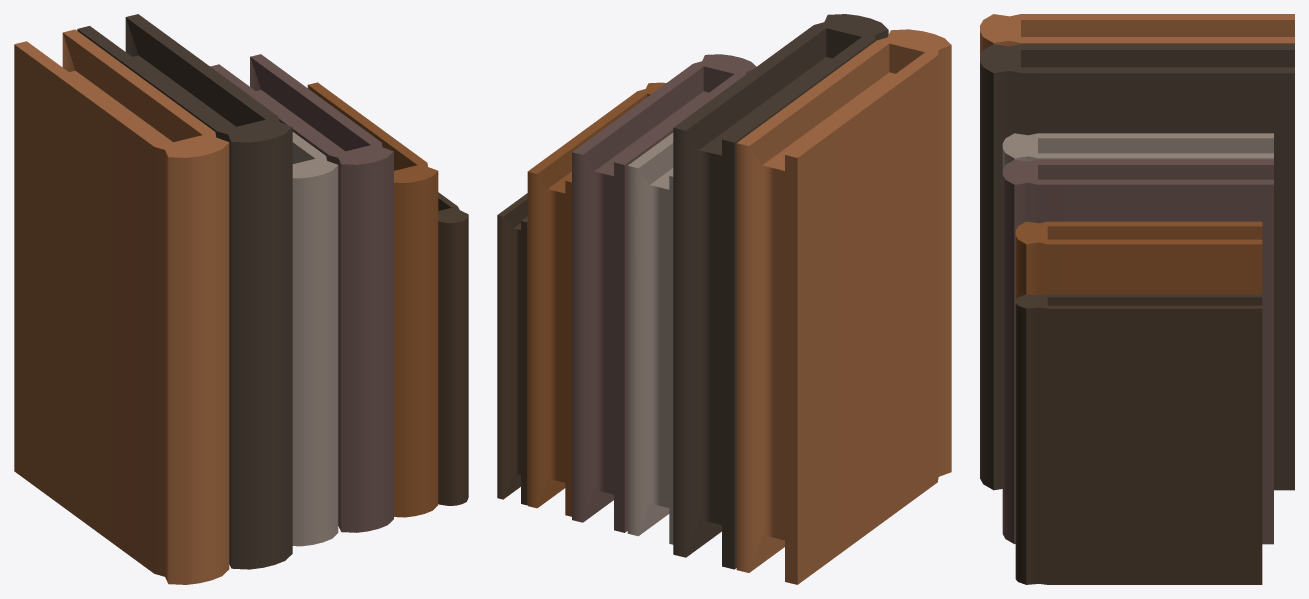
Rendered from colored book1 second set bedroom.fbx.
3 renders of one model, left to right at view 1: azimuth 30°, elevation 25°; view 2: azimuth 150°, elevation 25°; view 3: azimuth 270°, elevation 25°, orthographic. The views are drawn at different scales.
Parts seen in each view (by area): view 1: pCube5, pCube1, pCube3, pCube2, pCube4, pCube6; view 2: pCube5, pCube1, pCube3, pCube2, pCube4, pCube6; view 3: pCube6, pCube1, pCube3, pCube4, pCube5, pCube2.
Boxes of the visible parts, <box> form: pCube5: <box>14,29,229,584</box>; pCube1: <box>77,14,292,569</box>; pCube3: <box>210,54,393,532</box>; pCube2: <box>292,132,338,546</box>; pCube4: <box>307,82,438,517</box>; pCube6: <box>438,192,468,505</box>; pCube5: <box>736,29,951,584</box>; pCube1: <box>673,14,888,569</box>; pCube3: <box>572,54,756,532</box>; pCube2: <box>627,132,673,544</box>; pCube4: <box>527,82,665,516</box>; pCube6: <box>497,193,527,505</box>; pCube6: <box>1015,294,1262,584</box>; pCube1: <box>980,44,1294,490</box>; pCube3: <box>1002,159,1273,544</box>; pCube4: <box>1015,221,1262,299</box>; pCube5: <box>980,14,1294,55</box>; pCube2: <box>1002,133,1273,169</box>.
Bounding box in the file's own units: 0.2328 × 0.3017 × 0.2049.
